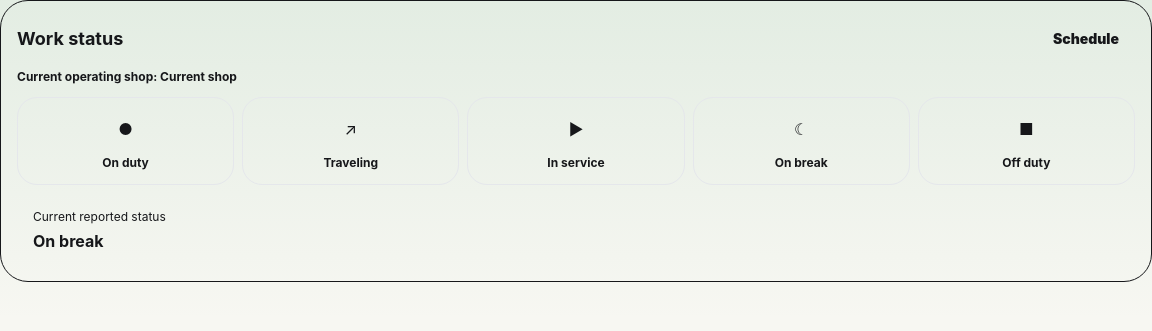
Scenario: work status submission › keeps prior server state and exposes retry after failed write
Click the button "● On duty".
click(126, 141)  # box 17,97 -> 234,185
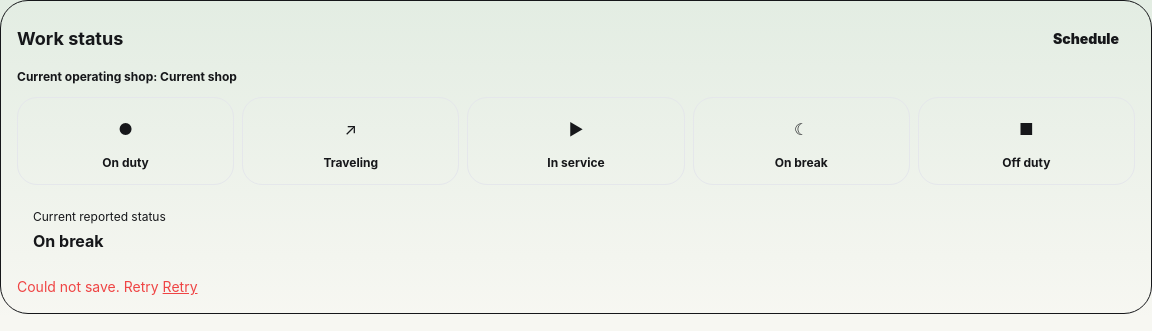
Result: the message "Could not save. Retry Retry" is shown at 17,277 -> 198,297
